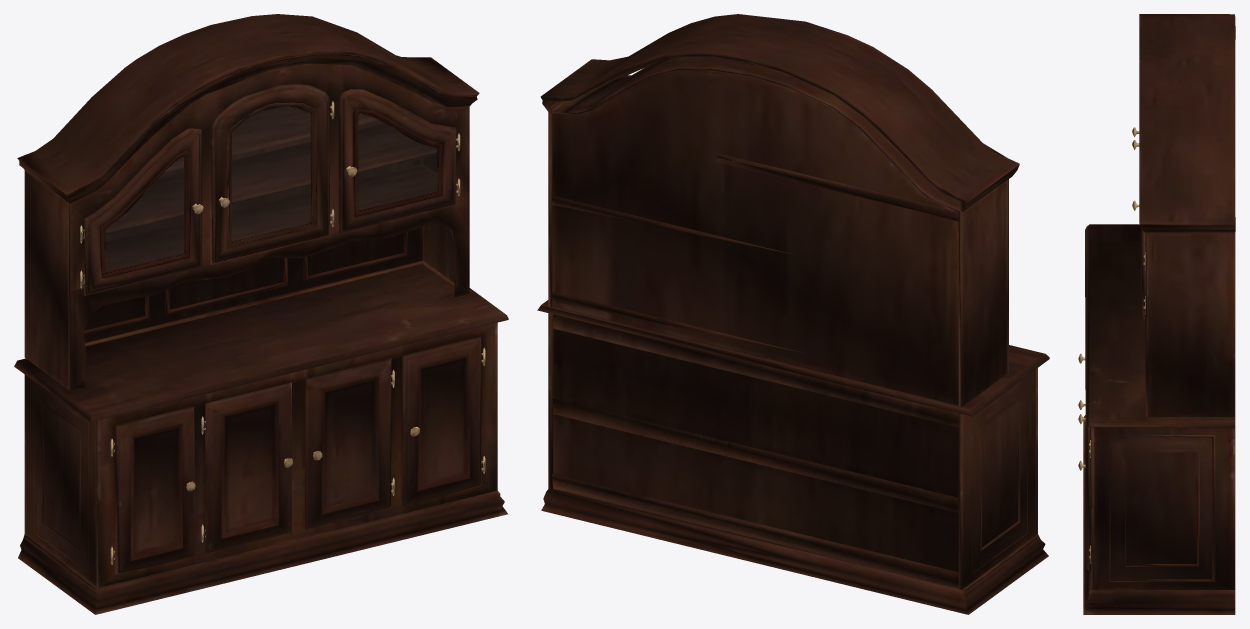
Rendered from vintage_cabinet_01.glb.
3 renders of one model, left to right at view 1: azimuth 30°, elevation 25°; view 2: azimuth 150°, elevation 25°; view 3: azimuth 270°, elevation 25°, orthographic. The views are drawn at different scales.
Parts seen in each view (by area): view 1: vintage_cabinet_01_body, vintage_cabinet_01_door_03, vintage_cabinet_01_door_01, vintage_cabinet_01_door_04, vintage_cabinet_01_door_06, vintage_cabinet_01_door_07, vintage_cabinet_01_door_02, vintage_cabinet_01_door_05; view 2: vintage_cabinet_01_body; view 3: vintage_cabinet_01_body, vintage_cabinet_01_door_02, vintage_cabinet_01_door_04.
Boxes of the visible parts, x1,y1,x2,y2 form: vintage_cabinet_01_body: [14, 14, 508, 614]; vintage_cabinet_01_door_03: [210, 83, 332, 264]; vintage_cabinet_01_door_01: [83, 128, 203, 295]; vintage_cabinet_01_door_04: [338, 89, 458, 233]; vintage_cabinet_01_door_06: [204, 382, 292, 553]; vintage_cabinet_01_door_07: [305, 357, 392, 528]; vintage_cabinet_01_door_02: [402, 336, 483, 505]; vintage_cabinet_01_door_05: [114, 406, 195, 575]; vintage_cabinet_01_body: [537, 14, 1049, 614]; vintage_cabinet_01_body: [1083, 14, 1235, 614]; vintage_cabinet_01_door_02: [1078, 427, 1090, 572]; vintage_cabinet_01_door_04: [1132, 200, 1145, 319].
Size of the model in its own units: 2.02 by 2.23 by 0.6699.
3 materials, 2 textured.
